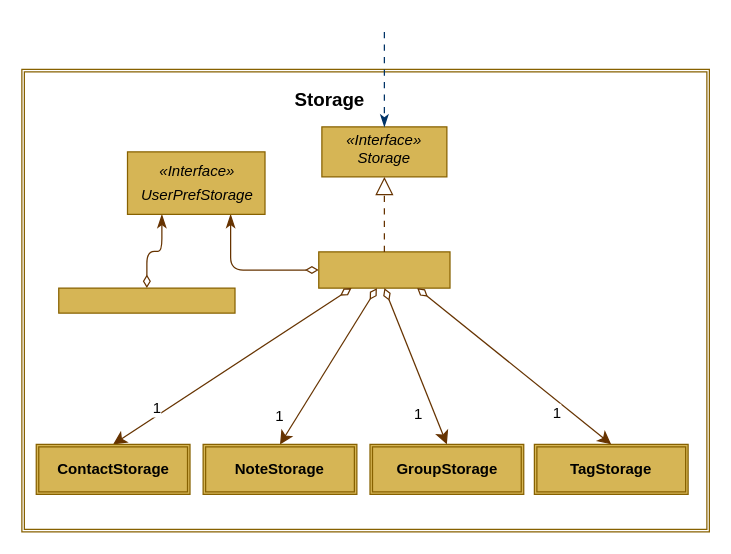
Some shapes in this 731 by 554 pixel diagram are drawn without their labels. Here are the shapes that lost their labels. From the top down, the centre of each, then its label:
[384,269]: StorageManager
[146,300]: JsonUserPrefsStorage
